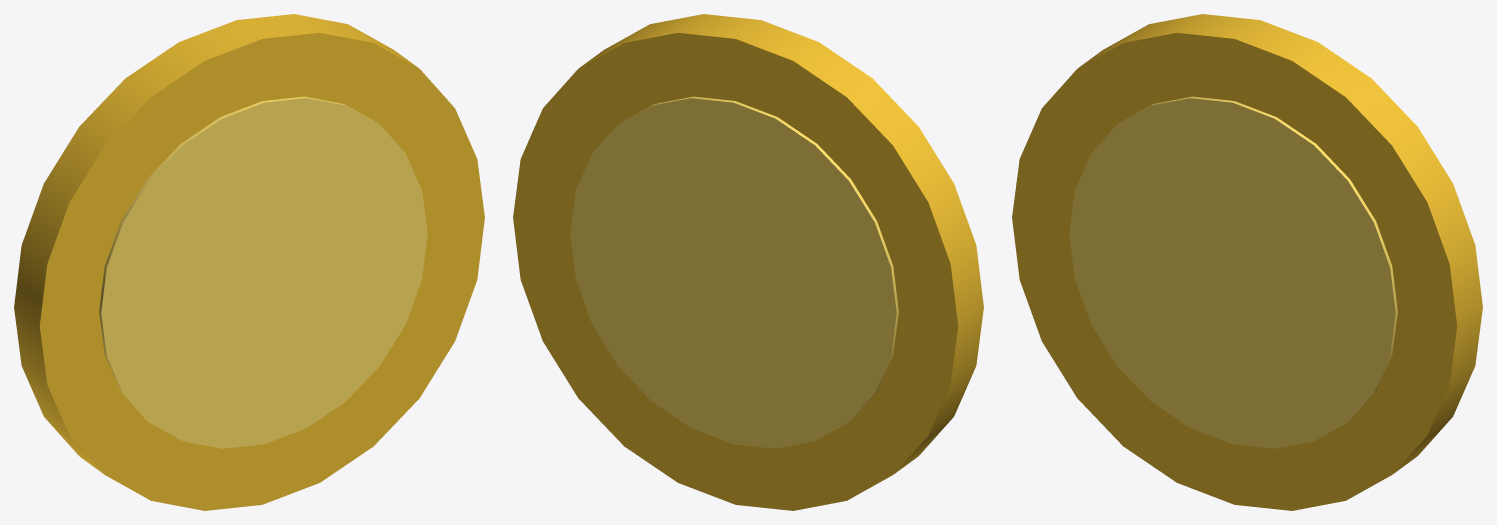
Rendered from gold_coin.glb.
The picture shows the model from 3 angles, left to right: view 1: azimuth 30°, elevation 25°; view 2: azimuth 150°, elevation 25°; view 3: azimuth 330°, elevation 25°; orthographic projection.
Visible parts, largest first — view 1: gold_coin; view 2: gold_coin; view 3: gold_coin.
Boxes of the visible parts, x1,y1,x2,y2 form: gold_coin: (14,14,484,510); gold_coin: (513,14,983,510); gold_coin: (1012,14,1482,510).
Bounding box in the file's own units: 0.3 × 0.3 × 0.035.
